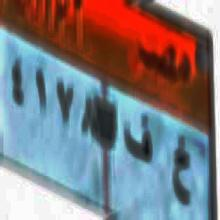1: (30, 64, 52, 132)
4: (9, 56, 27, 123)
7: (56, 74, 77, 142)
8: (80, 93, 95, 152)
faa: (124, 106, 154, 192)
khaa: (170, 130, 193, 216)
